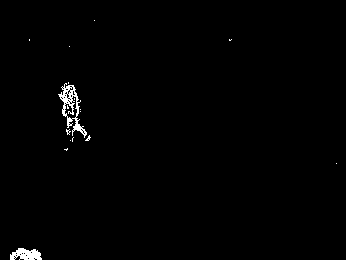person: (58, 80, 88, 152)
